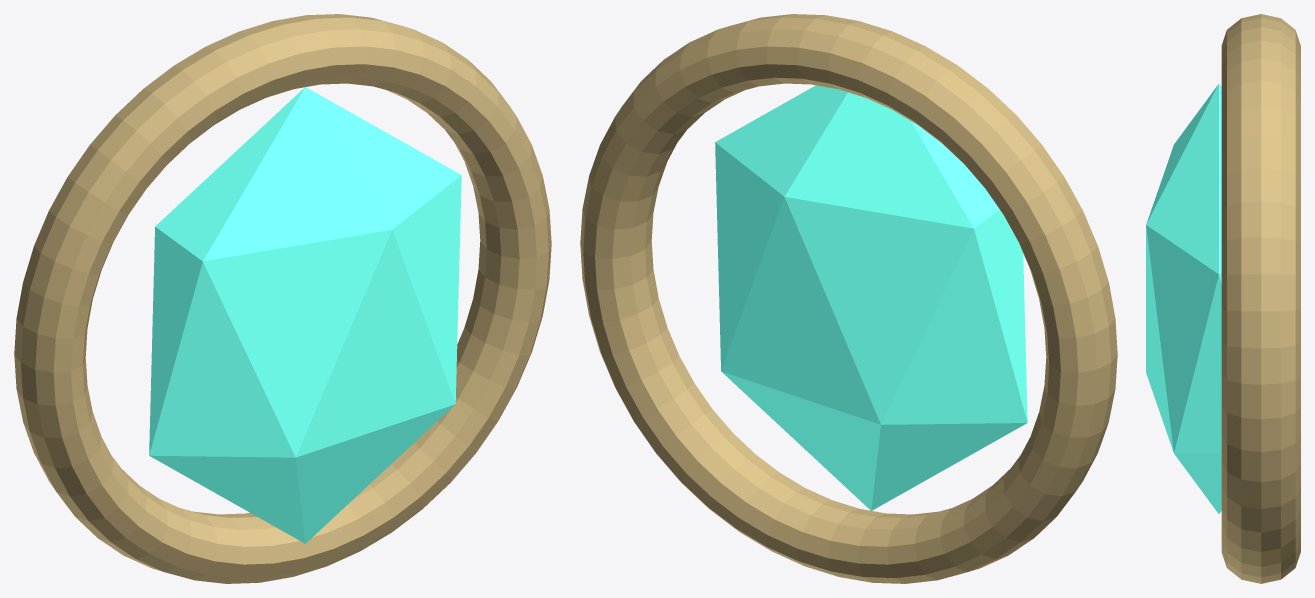
Rendered from jade_jewel_prop.glb.
3 renders of one model, left to right at view 1: azimuth 30°, elevation 25°; view 2: azimuth 150°, elevation 25°; view 3: azimuth 270°, elevation 25°, orthographic. The views are drawn at different scales.
Parts seen in each view (by area): view 1: Icosphere, Torus; view 2: Torus, Icosphere; view 3: Torus, Icosphere.
Part boxes in pixels (x1,y1,x2,y2): Icosphere: (149,87,461,543); Torus: (14,14,551,583); Torus: (580,14,1117,583); Icosphere: (715,85,1027,510); Torus: (1221,14,1300,583); Icosphere: (1146,84,1221,513).
Size of the model in its own units: 0.81 by 0.81 by 0.2196.
